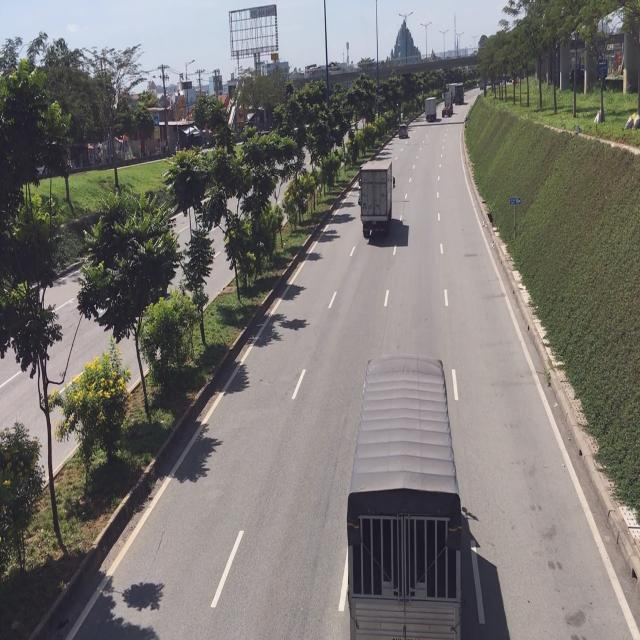truck: (344, 348, 466, 635), (359, 156, 394, 239)
